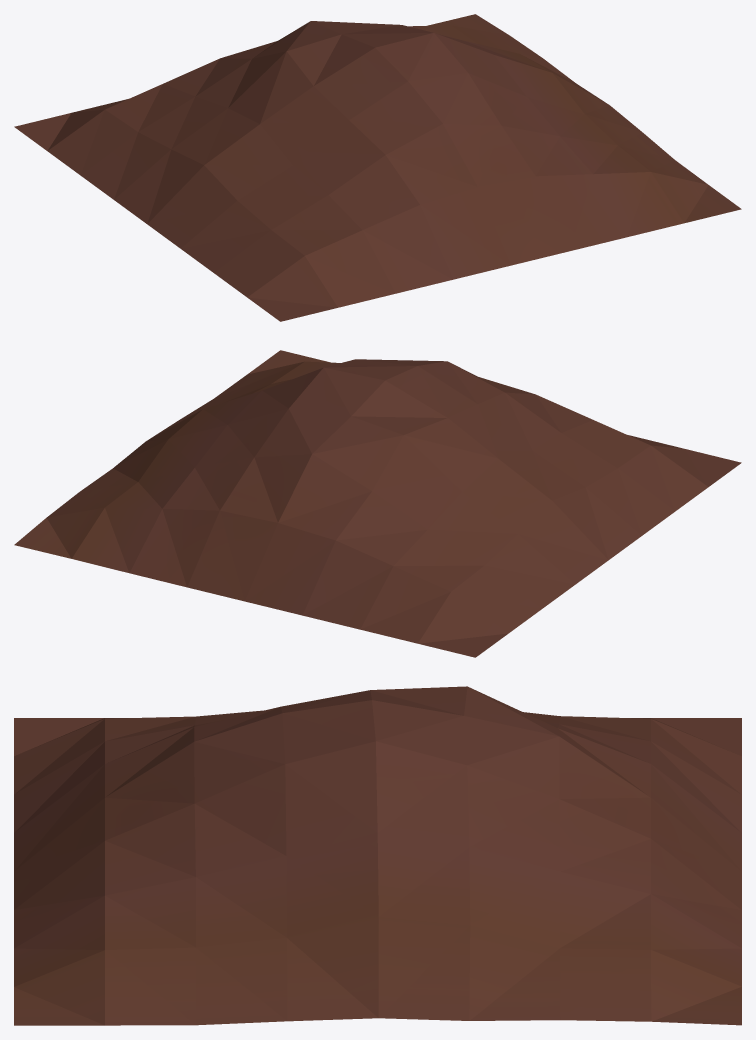
The model's file is mod_groundLayering_1x1.fbx.
The picture shows the model from 3 angles, top to bottom: view 1: azimuth 30°, elevation 25°; view 2: azimuth 150°, elevation 25°; view 3: azimuth 270°, elevation 25°; orthographic projection. The views are drawn at different scales.
Parts seen in each view (by area): view 1: mod_groundLayering_1x1; view 2: mod_groundLayering_1x1; view 3: mod_groundLayering_1x1.
Boxes of the visible parts, bbox=[...] form: mod_groundLayering_1x1: bbox=[14, 14, 741, 321]; mod_groundLayering_1x1: bbox=[14, 350, 741, 657]; mod_groundLayering_1x1: bbox=[14, 686, 741, 1025].
Bounding box in the file's own units: 100 × 25.5 × 100.
